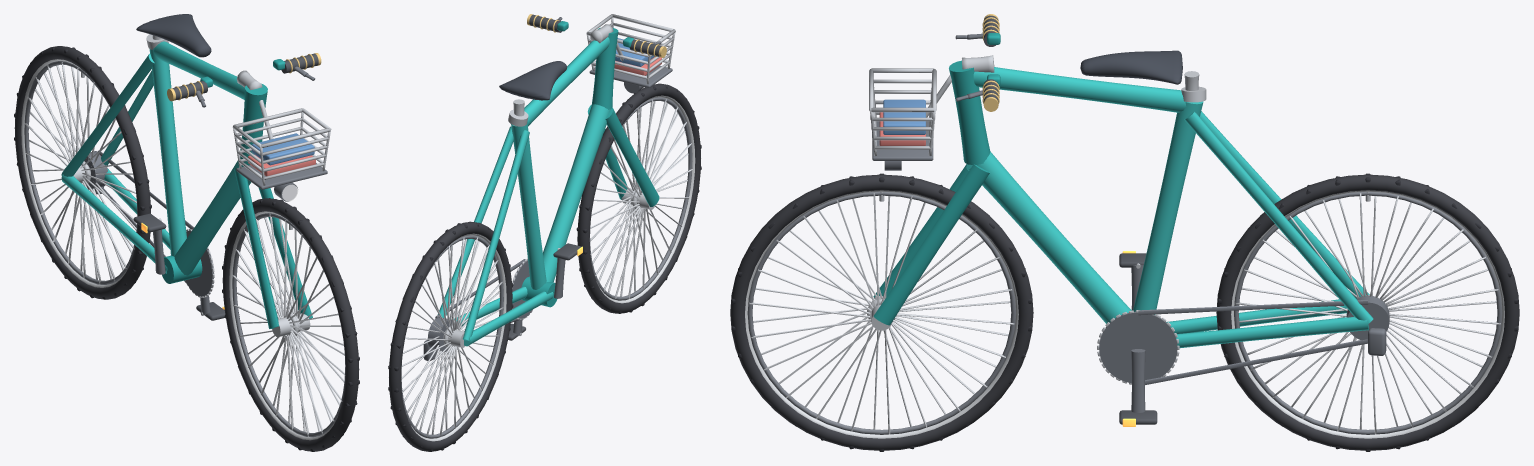
The model's file is bike.glb.
The picture shows the model from 3 angles, left to right: view 1: azimuth 30°, elevation 25°; view 2: azimuth 150°, elevation 25°; view 3: azimuth 270°, elevation 25°; orthographic projection. The views are drawn at different scales.
Visible parts, largest first — view 1: frame, wheelFront, wheelRear, basket, drivetrain, handlebar, seat, lamp; view 2: frame, wheelRear, wheelFront, basket, drivetrain, seat, handlebar; view 3: frame, wheelFront, wheelRear, drivetrain, basket, seat, handlebar.
Part boxes in pixels (left/top/right/bottom): frame: left=61, top=34, right=312, bottom=328; wheelFront: left=222, top=198, right=359, bottom=451; wheelRear: left=14, top=46, right=151, bottom=299; basket: left=232, top=100, right=331, bottom=189; drivetrain: left=84, top=150, right=225, bottom=320; handlebar: left=167, top=53, right=321, bottom=107; seat: left=136, top=14, right=211, bottom=57; lamp: left=274, top=182, right=298, bottom=201; frame: left=437, top=27, right=659, bottom=346; wheelRear: left=388, top=221, right=513, bottom=451; wheelFront: left=576, top=83, right=701, bottom=313; basket: left=586, top=14, right=675, bottom=87; drivetrain: left=423, top=243, right=582, bottom=360; seat: left=499, top=61, right=566, bottom=100; handlebar: left=527, top=14, right=666, bottom=57; frame: left=873, top=60, right=1373, bottom=348; wheelFront: left=730, top=173, right=1033, bottom=451; wheelRear: left=1216, top=173, right=1519, bottom=451; drivetrain: left=1097, top=251, right=1389, bottom=426; basket: left=869, top=68, right=951, bottom=160; seat: left=1080, top=50, right=1182, bottom=84; handlebar: left=955, top=14, right=1000, bottom=111.
Bounding box in the file's own units: 0.448 × 0.9782 × 1.77.
